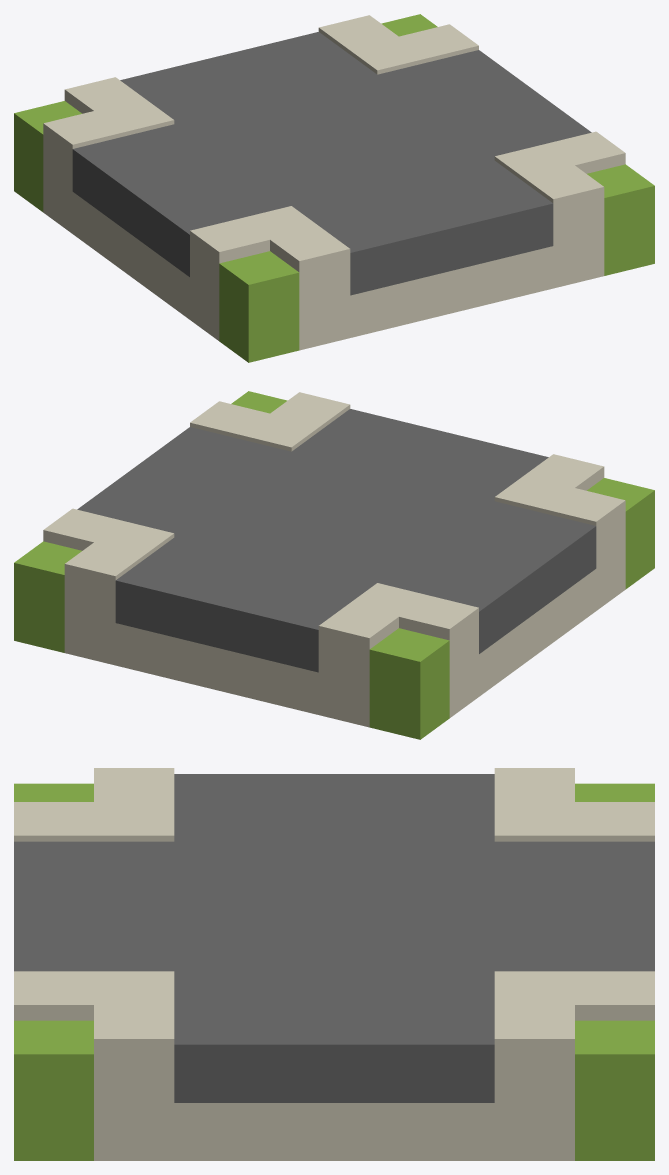
The model's file is tile047.dae.
3 renders of one model, top to bottom at view 1: azimuth 30°, elevation 25°; view 2: azimuth 150°, elevation 25°; view 3: azimuth 270°, elevation 25°, orthographic. The views are drawn at different scales.
Parts seen in each view (by area): view 1: tile047; view 2: tile047; view 3: tile047.
Boxes of the visible parts, x1,y1,x2,y2 form: tile047: [14, 14, 654, 362]; tile047: [14, 391, 654, 739]; tile047: [14, 768, 654, 1160].
Size of the model in its own units: 1 by 0.21 by 1.
